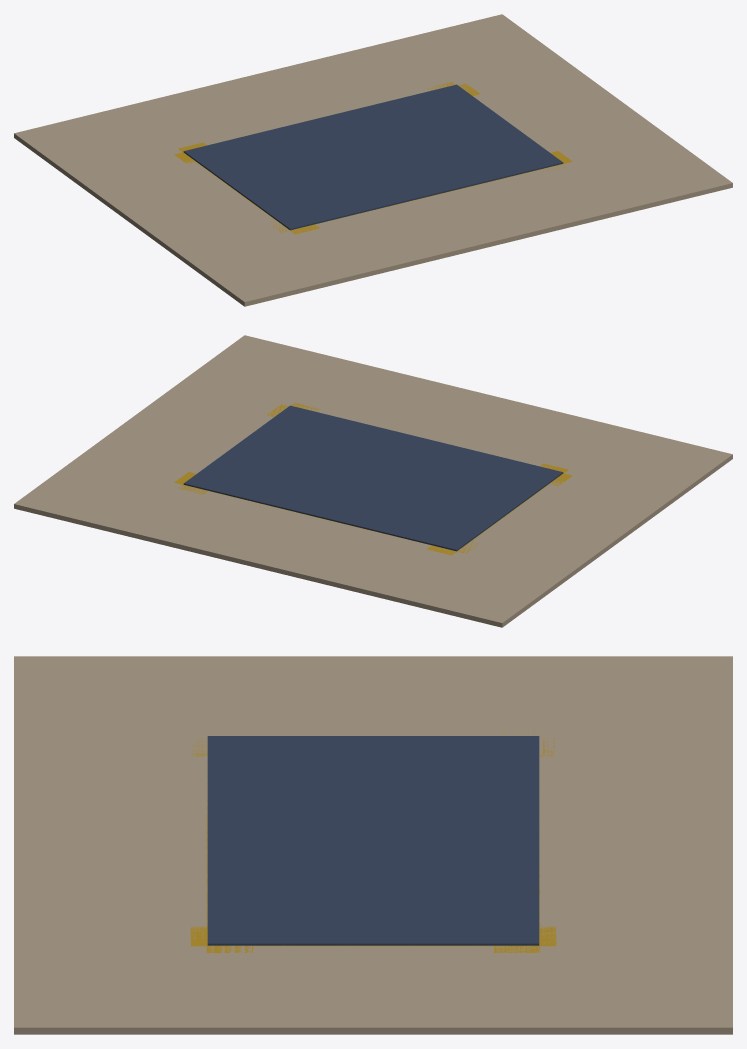
The model's file is stage_05_beams.glb.
3 renders of one model, top to bottom at view 1: azimuth 30°, elevation 25°; view 2: azimuth 150°, elevation 25°; view 3: azimuth 270°, elevation 25°, orthographic. The views are drawn at different scales.
Visible parts, largest first — view 1: world; view 2: world; view 3: world.
Boxes of the visible parts, x1,y1,x2,y2 form: world: [14, 14, 732, 306]; world: [14, 335, 732, 627]; world: [14, 656, 732, 1034].
Bounding box in the file's own units: 11 × 0.83 × 9.
